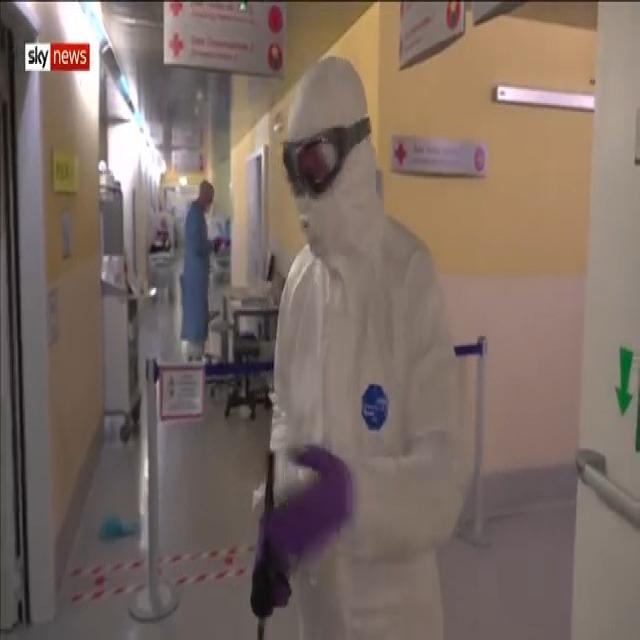Goggles: (279, 122, 397, 194)
